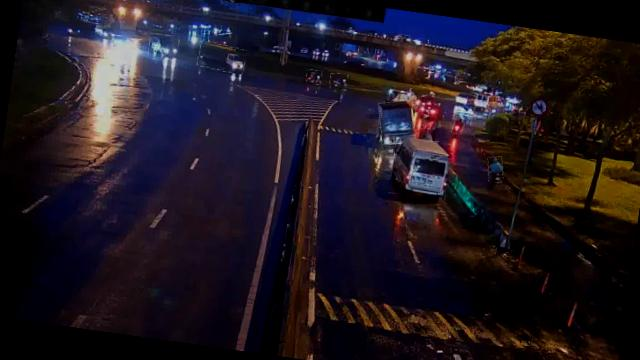Bike: (486, 156, 504, 184), (328, 72, 348, 90), (306, 68, 323, 84), (452, 115, 464, 134)
Bus: (388, 136, 452, 200)
Truck: (374, 98, 419, 152), (196, 40, 246, 74), (146, 33, 180, 62)
